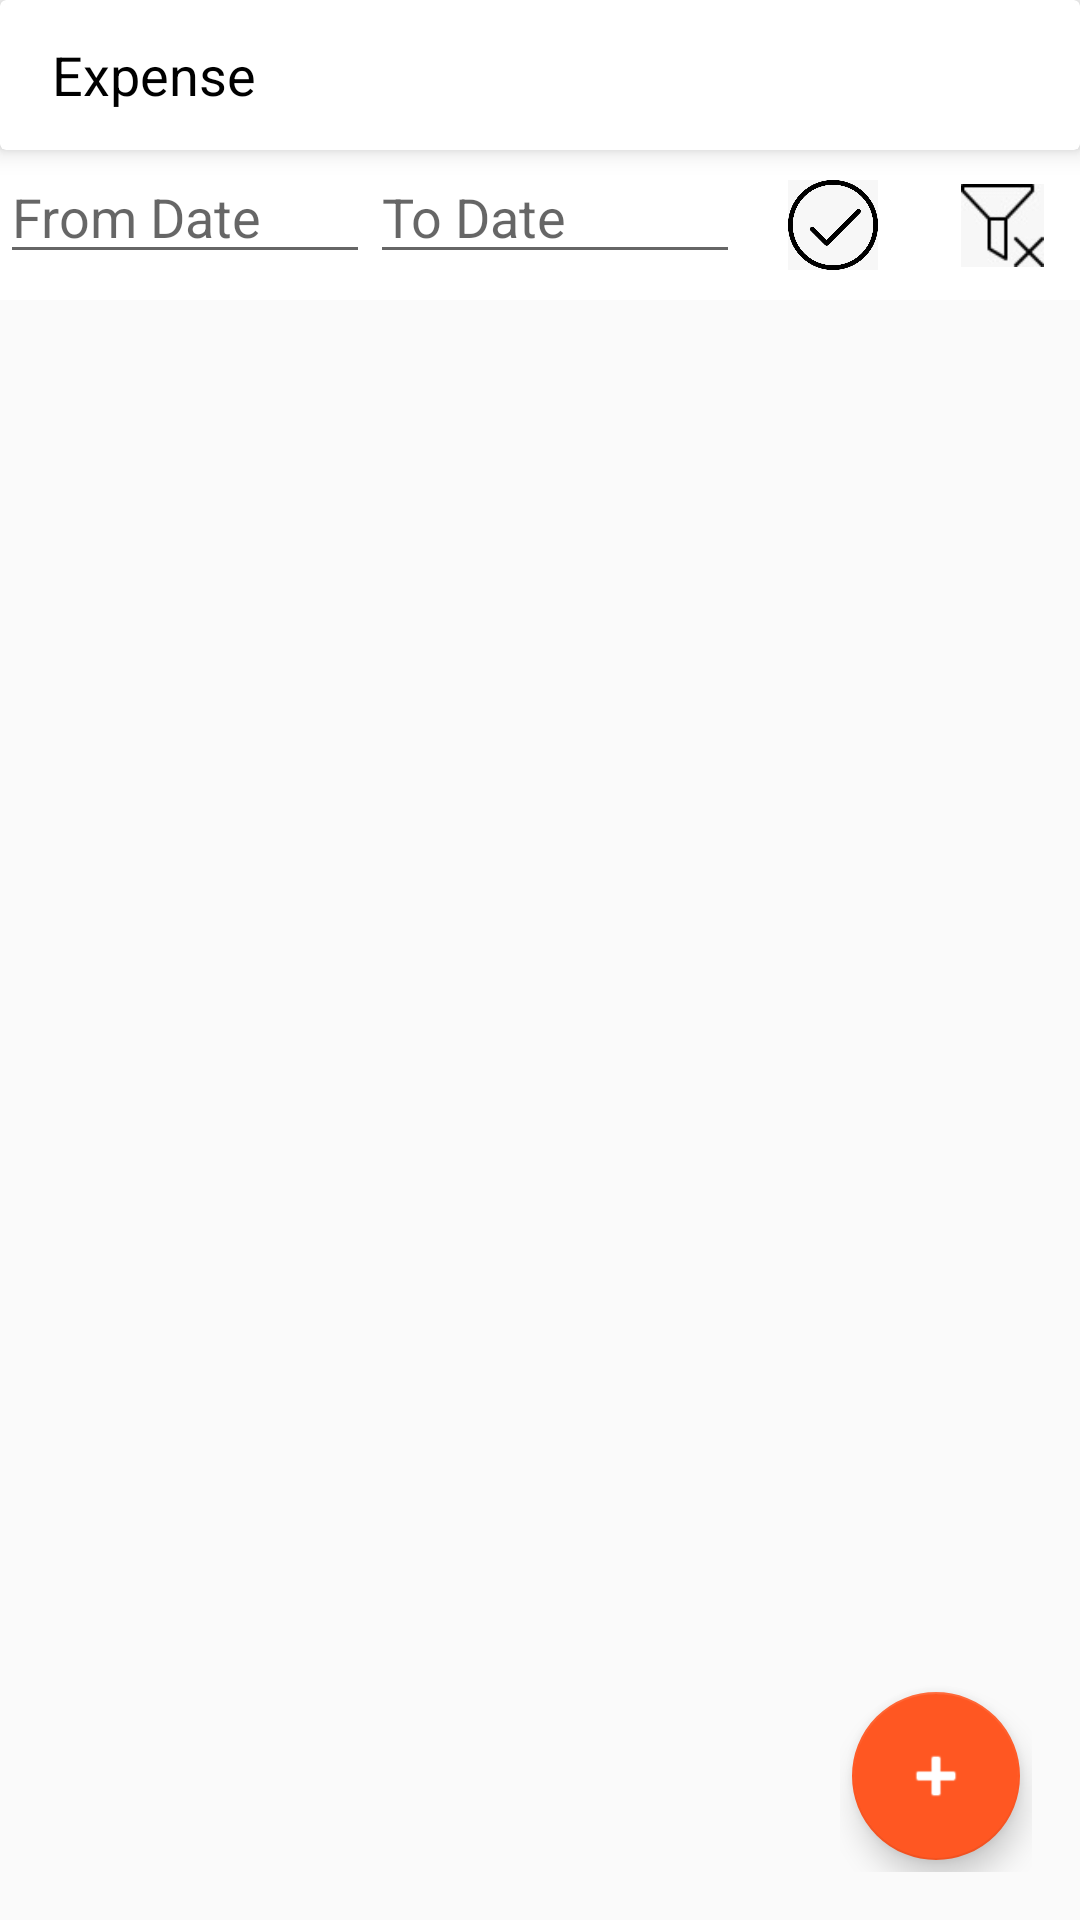

Locate icon controls on the screen. Image size 1080*1920, boxes as (x1, y1, x2, y2).
add: (852, 1692, 1020, 1860)
apply: (788, 180, 878, 270)
clear filter: (961, 184, 1044, 267)
